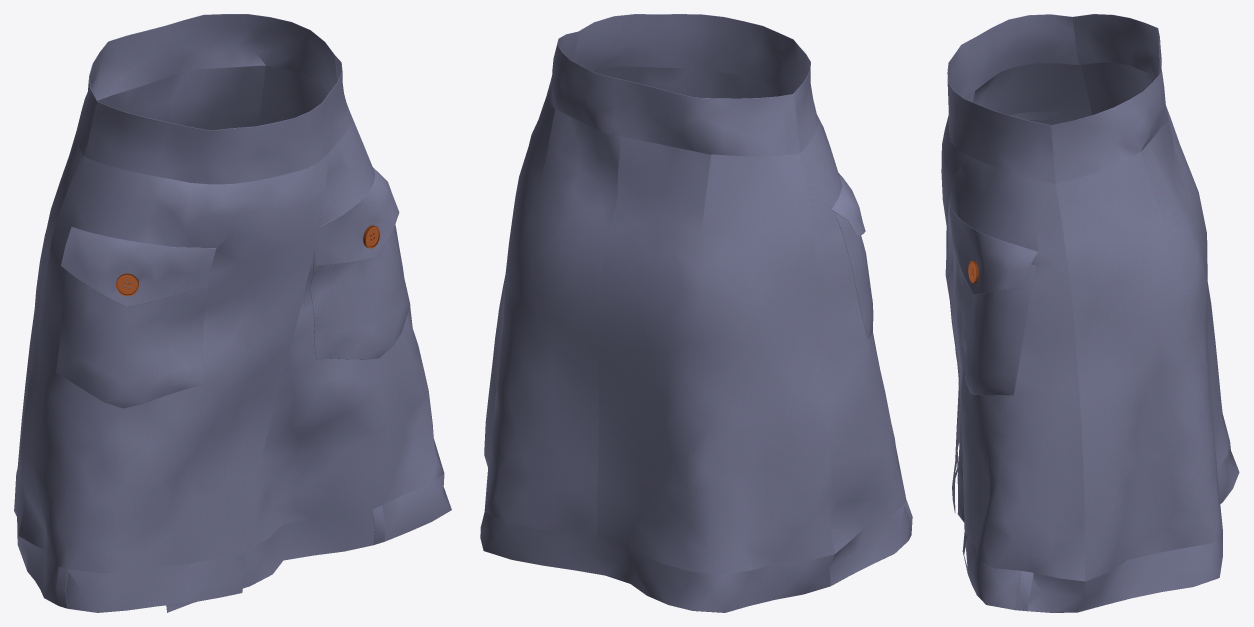
The picture shows the model from 3 angles, left to right: view 1: azimuth 30°, elevation 25°; view 2: azimuth 150°, elevation 25°; view 3: azimuth 270°, elevation 25°; orthographic projection. The views are drawn at different scales.
Visible parts, largest first — view 1: Pattern2D_17475, Pattern2D_17476, Pattern2D_300162, Pattern2D_408232, Pattern2D_300151, Pattern2D_408230, Pattern2D_57088, Pattern2D_263568, Pattern2D_408235, Pattern2D_408224, Pattern2D_408229, Pattern2D_408234; view 2: Pattern2D_408229, Pattern2D_263568, Pattern2D_17475, Pattern2D_300151, Pattern2D_300162, Pattern2D_408225, Pattern2D_17476, Pattern2D_57088, Pattern2D_408232, Pattern2D_408235; view 3: Pattern2D_263568, Pattern2D_17476, Pattern2D_300162, Pattern2D_300151, Pattern2D_17475, Pattern2D_408230, Pattern2D_408225, Pattern2D_408229, Pattern2D_408224, Pattern2D_408234, Pattern2D_408227.
Part boxes in pixels (x1=…): Pattern2D_17475: x1=18, y1=153, x2=328, y2=573; Pattern2D_17476: x1=246, y1=113, x2=444, y2=549; Pattern2D_300162: x1=84, y1=55, x2=351, y2=184; Pattern2D_408232: x1=56, y1=268, x2=211, y2=408; Pattern2D_300151: x1=76, y1=14, x2=337, y2=156; Pattern2D_408230: x1=309, y1=225, x2=410, y2=359; Pattern2D_57088: x1=19, y1=536, x2=245, y2=612; Pattern2D_263568: x1=170, y1=65, x2=329, y2=130; Pattern2D_408235: x1=61, y1=227, x2=216, y2=306; Pattern2D_408224: x1=166, y1=474, x2=451, y2=612; Pattern2D_408229: x1=16, y1=75, x2=173, y2=535; Pattern2D_408234: x1=314, y1=167, x2=399, y2=265; Pattern2D_408229: x1=597, y1=137, x2=834, y2=574; Pattern2D_263568: x1=484, y1=97, x2=621, y2=537; Pattern2D_17475: x1=800, y1=115, x2=905, y2=553; Pattern2D_300151: x1=546, y1=31, x2=800, y2=156; Pattern2D_300162: x1=573, y1=14, x2=818, y2=151; Pattern2D_408225: x1=480, y1=455, x2=834, y2=612; Pattern2D_17476: x1=593, y1=66, x2=791, y2=98; Pattern2D_57088: x1=829, y1=505, x2=909, y2=585; Pattern2D_408232: x1=836, y1=215, x2=873, y2=338; Pattern2D_408235: x1=831, y1=173, x2=865, y2=236; Pattern2D_263568: x1=1056, y1=120, x2=1222, y2=581; Pattern2D_17476: x1=948, y1=91, x2=1085, y2=581; Pattern2D_300162: x1=947, y1=14, x2=1077, y2=183; Pattern2D_300151: x1=1051, y1=14, x2=1168, y2=183; Pattern2D_17475: x1=941, y1=63, x2=1091, y2=478; Pattern2D_408230: x1=960, y1=264, x2=1035, y2=395; Pattern2D_408225: x1=1077, y1=442, x2=1239, y2=612; Pattern2D_408229: x1=1080, y1=62, x2=1229, y2=469; Pattern2D_408224: x1=957, y1=477, x2=1085, y2=612; Pattern2D_408234: x1=949, y1=205, x2=1037, y2=294; Pattern2D_408227: x1=1015, y1=571, x2=1033, y2=610.
Bounding box in the file's own units: 39.26 × 46.72 × 26.54.
